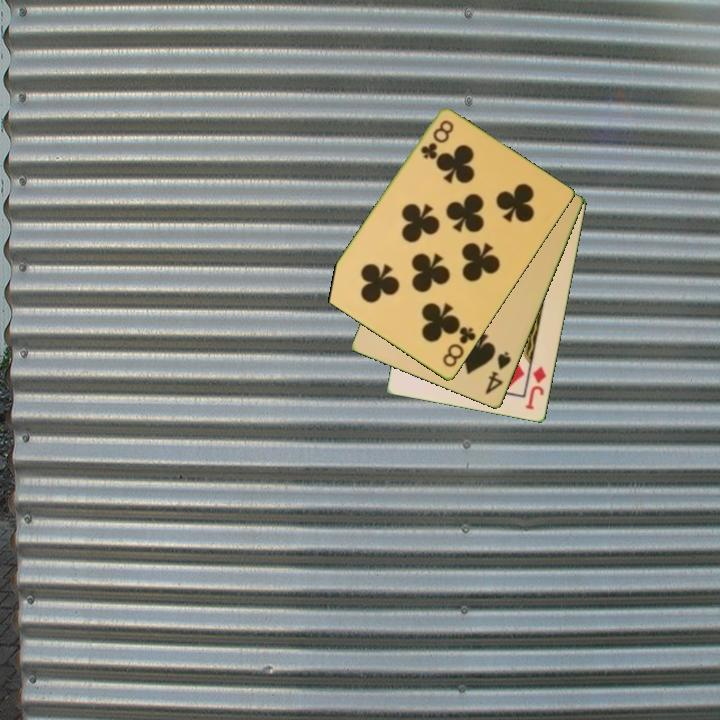4s: (482, 348, 514, 398)
8c: (439, 323, 479, 371), (417, 117, 457, 163)
Jd: (522, 363, 549, 413)
